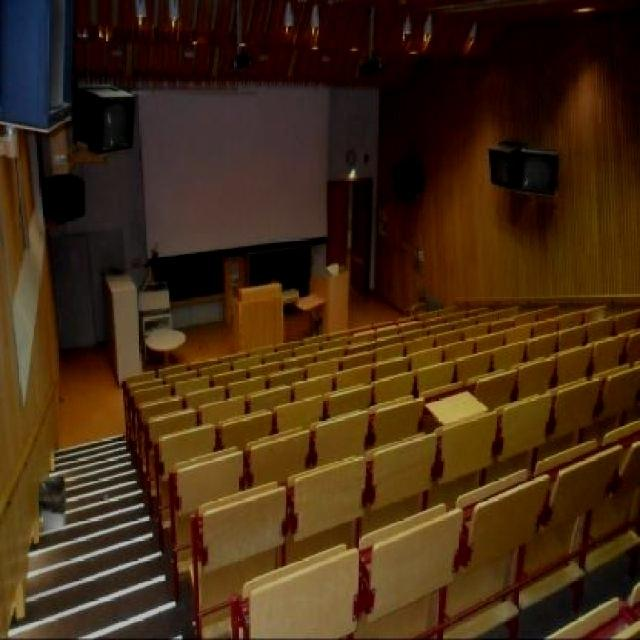stair: (8, 432, 188, 640)
